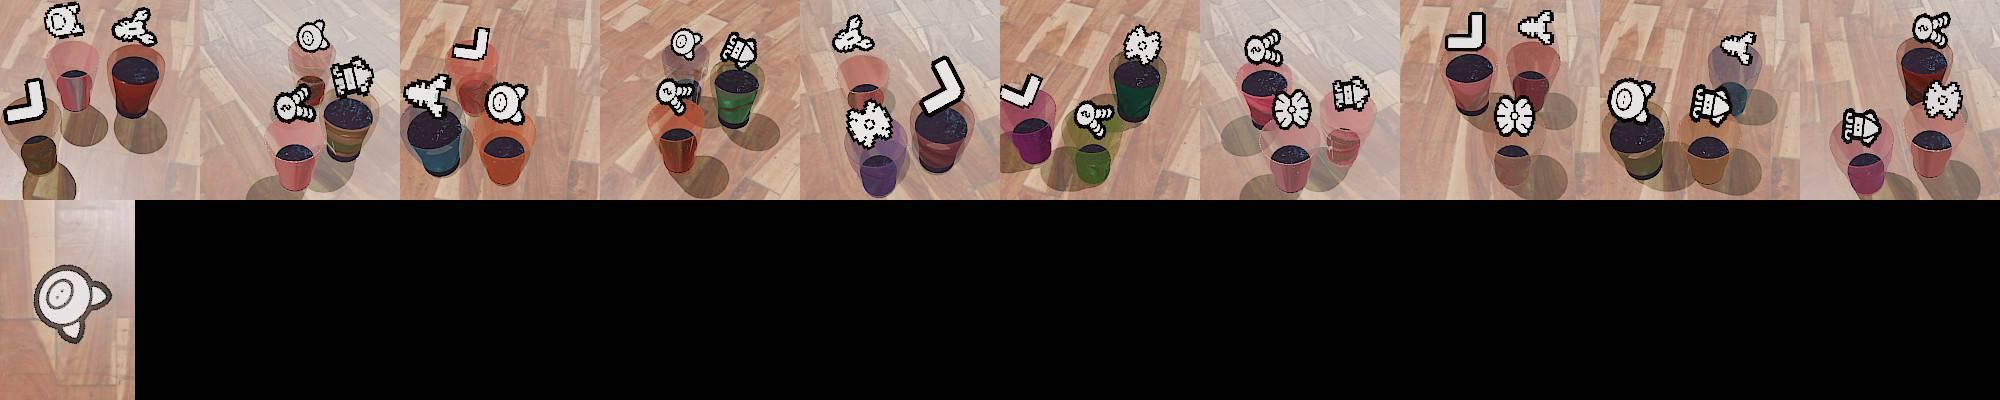icon: (32, 264, 116, 345), (917, 55, 964, 118), (846, 98, 894, 149), (403, 71, 454, 118), (3, 75, 50, 126), (1606, 78, 1657, 124), (272, 79, 319, 124), (485, 79, 531, 124), (1687, 83, 1732, 126), (656, 74, 702, 116), (1494, 93, 1536, 138), (1443, 10, 1487, 52), (112, 6, 158, 46), (1074, 97, 1116, 139), (832, 13, 875, 54), (1273, 87, 1314, 130), (997, 71, 1043, 110), (1121, 24, 1162, 66), (1922, 78, 1963, 120), (43, 1, 85, 39), (1842, 106, 1881, 145), (718, 31, 759, 69), (1244, 28, 1284, 66), (1330, 74, 1370, 112), (1517, 9, 1555, 47), (452, 25, 491, 62), (337, 57, 374, 96), (1913, 11, 1953, 47), (1718, 32, 1756, 65), (295, 18, 329, 54), (668, 27, 704, 61)
